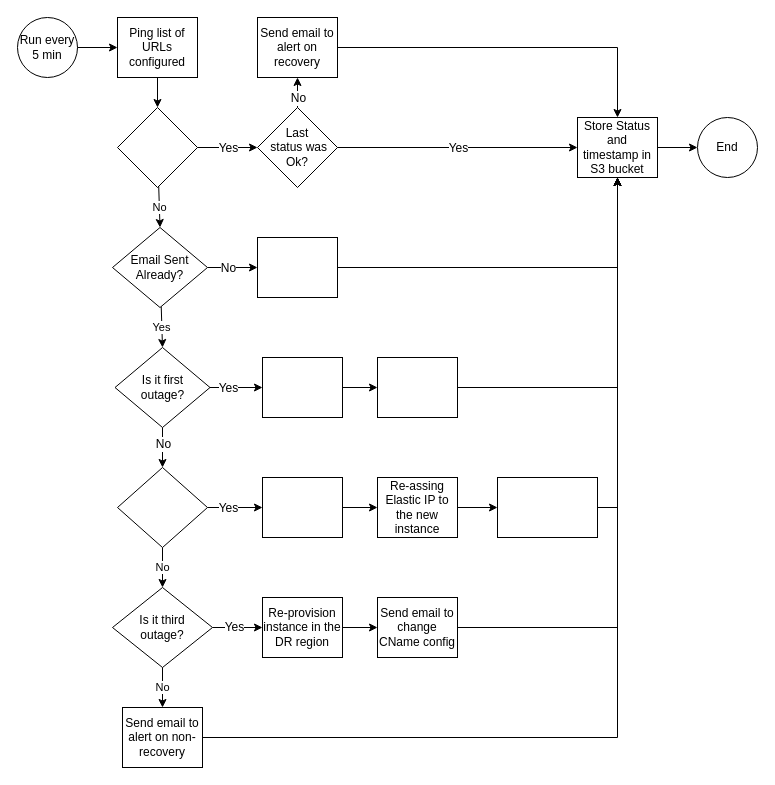
The diagram is 775 pixels wide and 785 high, and some of its shapes have lost their labels. The shapes that lost their labels are listed below. From the top down, each one's centre as x and y in pixels, then its label:
At (x=157, y=147): "N% Available?".
At (x=297, y=267): "Send notification to admin".
At (x=302, y=387): "Restart Instance".
At (x=417, y=387): "Send email to alert on ec2 restart".
At (x=162, y=507): "Is it second outage?".
At (x=302, y=507): "Re-provision instance in the same region".
At (x=547, y=507): "Send email to alert on ec2 reprovision in the same region".
